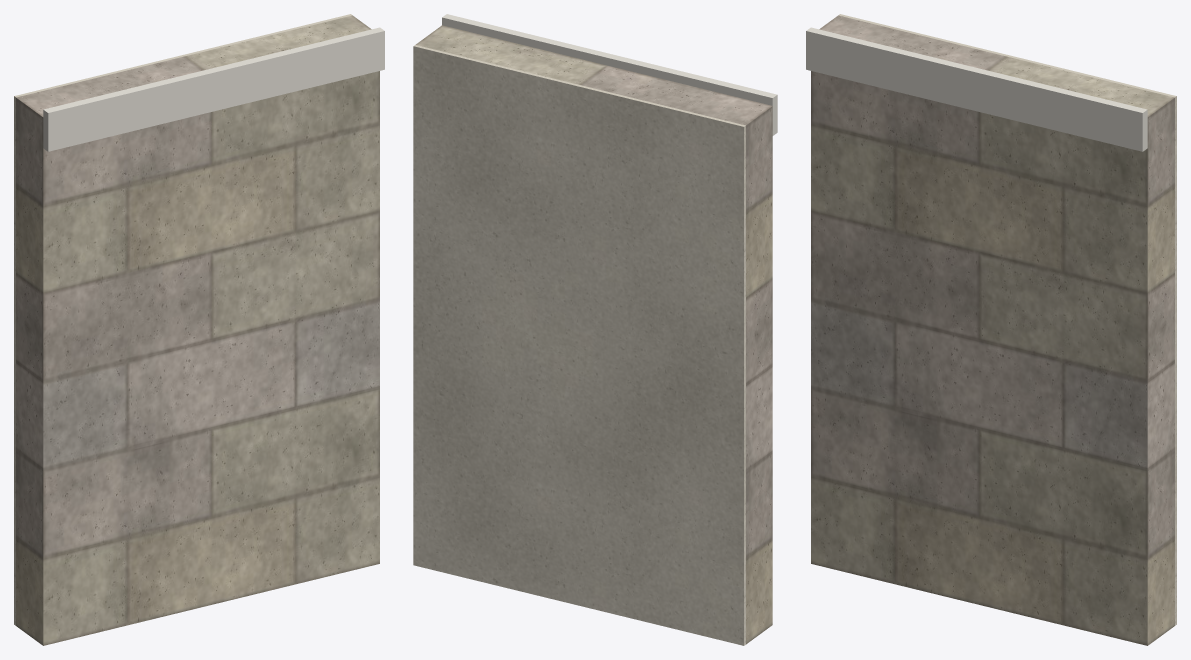
File: wall_b1_plain.glb
3 views of the same model, side by side, from view 1: azimuth 30°, elevation 25°; view 2: azimuth 150°, elevation 25°; view 3: azimuth 330°, elevation 25° (orthographic).
Parts seen in each view (by area): view 1: wall_b1_plain_grey, wall_b1_plain_lime, wall_b1_plain_plaster; view 2: wall_b1_plain_plaster, wall_b1_plain_grey, wall_b1_plain_lime; view 3: wall_b1_plain_grey, wall_b1_plain_lime, wall_b1_plain_plaster.
Boxes of the visible parts, <box> form: wall_b1_plain_grey: <box>16,15,379,645</box>; wall_b1_plain_lime: <box>43,27,384,151</box>; wall_b1_plain_plaster: <box>14,14,352,625</box>; wall_b1_plain_plaster: <box>413,45,745,645</box>; wall_b1_plain_grey: <box>415,25,772,644</box>; wall_b1_plain_lime: <box>442,14,777,135</box>; wall_b1_plain_grey: <box>811,15,1174,645</box>; wall_b1_plain_lime: <box>806,27,1147,151</box>; wall_b1_plain_plaster: <box>838,14,1176,625</box>.
Bounding box in the file's own units: 2 × 3.05 × 0.35.
Materials: 3 (2 with a texture image).
